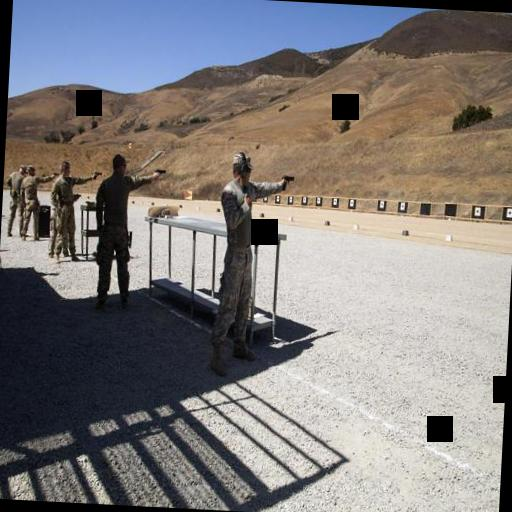Handgun: (280, 170, 296, 189), (152, 164, 168, 180), (92, 166, 102, 179), (50, 168, 58, 180)
